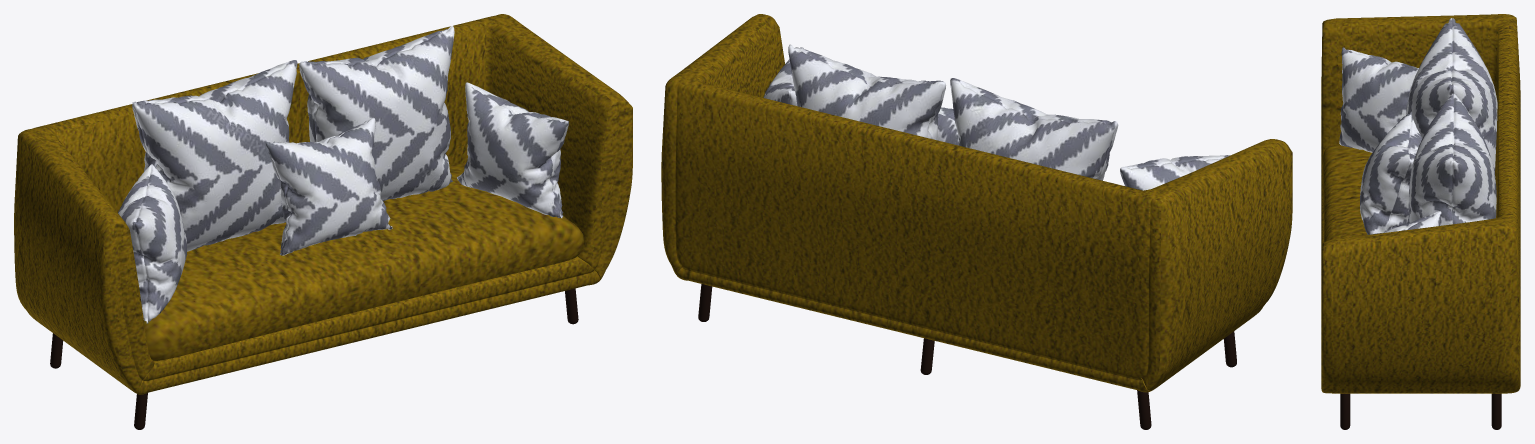
3 views of the same model, side by side, from view 1: azimuth 30°, elevation 25°; view 2: azimuth 150°, elevation 25°; view 3: azimuth 270°, elevation 25° (orthographic). The views are drawn at different scales.
Visible parts, largest first — view 1: couch, pillow_02_geo, seat, Legs_03_geo; view 2: couch, pillow_02_geo, Legs_03_geo; view 3: couch, pillow_02_geo, seat, Legs_03_geo.
Boxes of the visible parts, x1=… form: couch: x1=14, y1=14, x2=632, y2=394; pillow_02_geo: x1=118, y1=26, x2=568, y2=323; seat: x1=144, y1=162, x2=583, y2=360; Legs_03_geo: x1=50, y1=288, x2=578, y2=429; couch: x1=661, y1=14, x2=1292, y2=392; pillow_02_geo: x1=763, y1=44, x2=1230, y2=190; Legs_03_geo: x1=698, y1=284, x2=1236, y2=429; couch: x1=1321, y1=14, x2=1520, y2=393; pillow_02_geo: x1=1339, y1=18, x2=1497, y2=234; seat: x1=1322, y1=145, x2=1371, y2=242; Legs_03_geo: x1=1340, y1=393, x2=1501, y2=429.
Size of the model in its own units: 2.09 by 1.03 by 0.7535.
4 materials, 3 textured.
